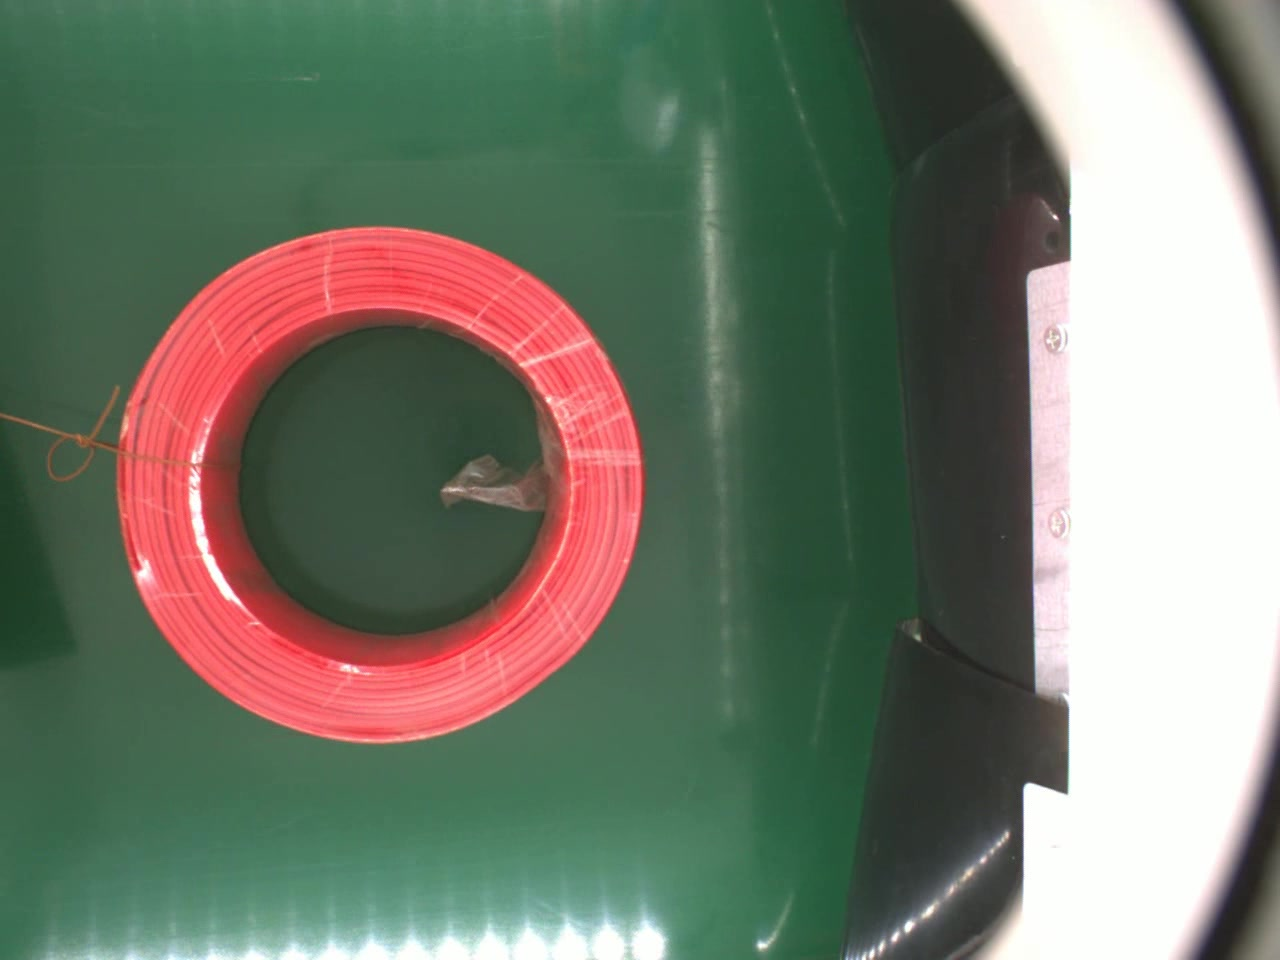red: (116, 222, 644, 745)
